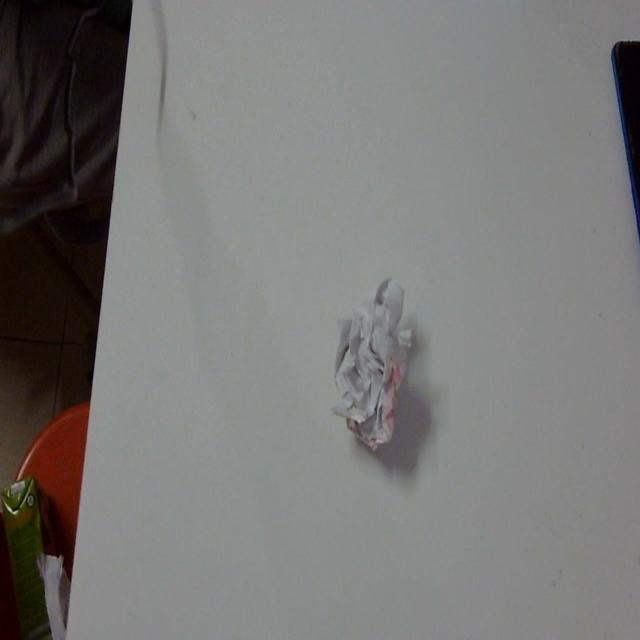paperrotation: (331, 270, 421, 465)
